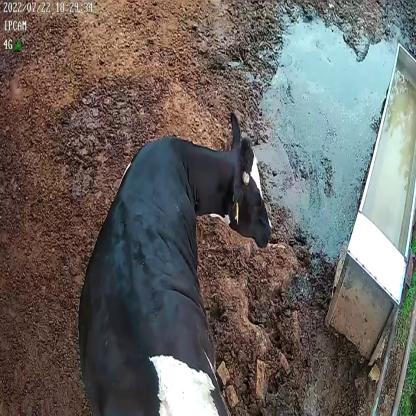cow: (76, 105, 274, 416)
